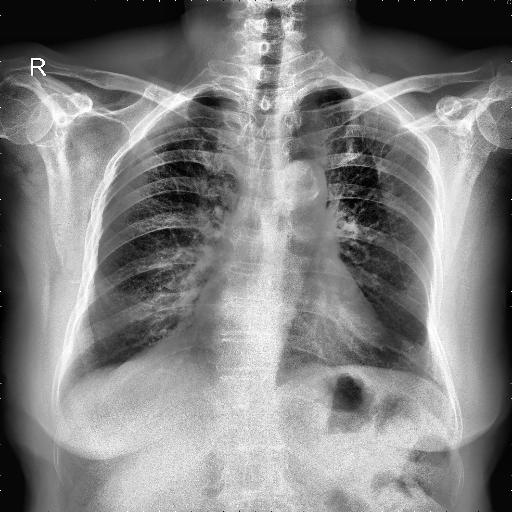0- Aortic enlargement: (272, 156, 327, 220), (276, 159, 326, 210), (280, 156, 327, 203)
3- Cardiomegaly: (190, 288, 390, 366), (194, 302, 392, 364)
